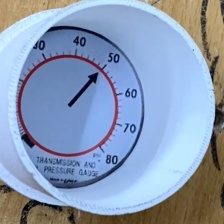gauge: (16, 28, 143, 188)
